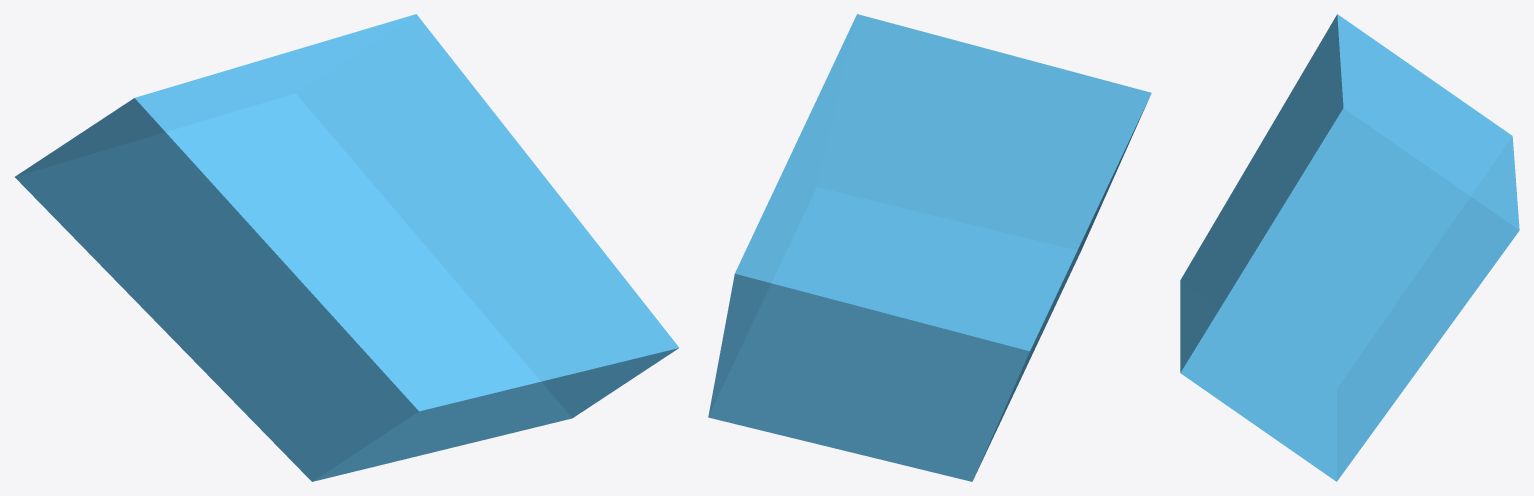
File: Event_420094457_HBrechit_10.fbx
The picture shows the model from 3 angles, left to right: view 1: azimuth 30°, elevation 25°; view 2: azimuth 150°, elevation 25°; view 3: azimuth 270°, elevation 25°; orthographic projection. The views are drawn at different scales.
Visible parts, largest first — view 1: Model; view 2: Model; view 3: Model.
Boxes of the visible parts, box(x1,y1,x2,y2) form: Model: box(15, 14, 679, 481); Model: box(708, 14, 1151, 481); Model: box(1180, 14, 1519, 481).
Size of the model in its own units: 0.7519 by 0.7192 by 0.6912.
